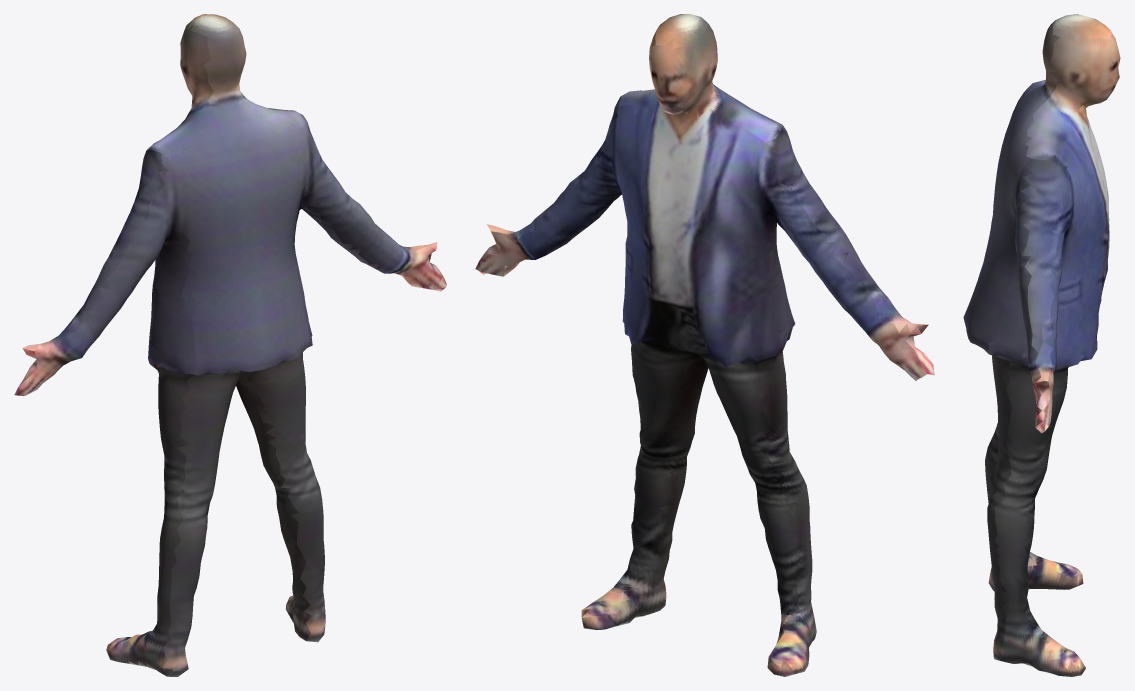
The picture shows the model from 3 angles, left to right: view 1: azimuth 30°, elevation 25°; view 2: azimuth 150°, elevation 25°; view 3: azimuth 270°, elevation 25°; orthographic projection. The views are drawn at different scales.
Visible parts, largest first — view 1: world; view 2: world; view 3: world.
Boxes of the visible parts, <box> form: world: <box>14,14,446,676</box>; world: <box>475,14,934,676</box>; world: <box>963,14,1120,676</box>.
Bounding box in the file's own units: 0.7497 × 1 × 0.2324.
1 material, 1 textured.
